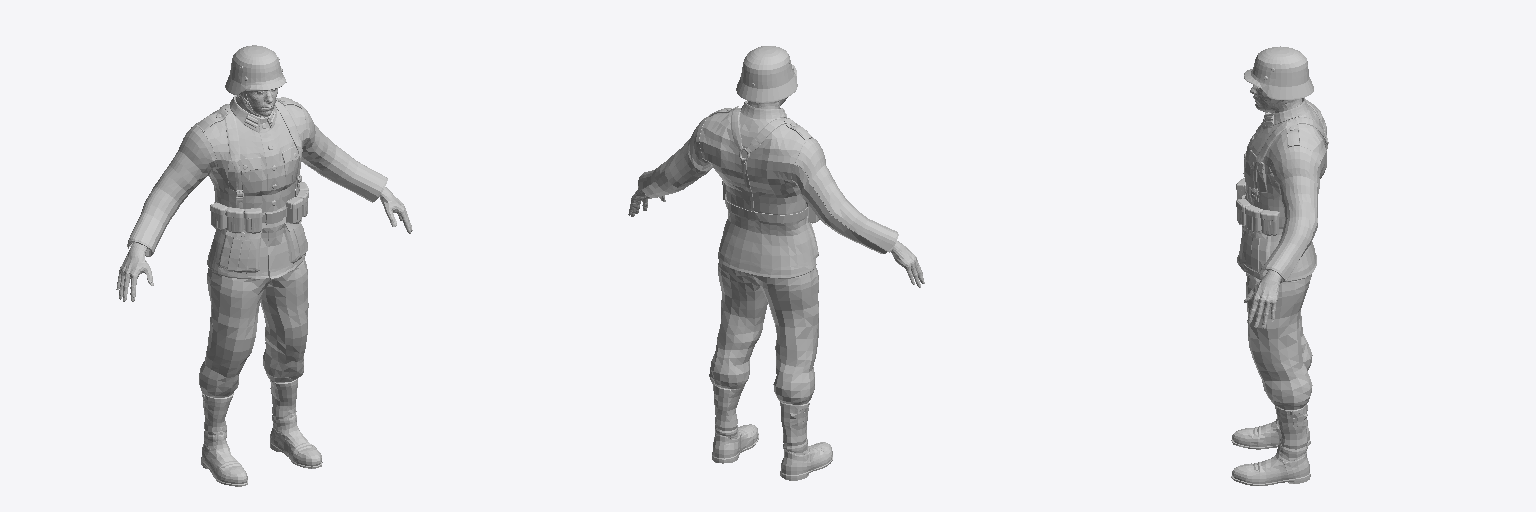
File: soldier.obj
3 views of the same model, side by side, from view 1: azimuth 30°, elevation 25°; view 2: azimuth 150°, elevation 25°; view 3: azimuth 270°, elevation 25° (orthographic).
Visible parts, largest first — view 1: Cylinder.049_meshId0_name, Cylinder.023_meshId1_name, BlendMann.003_meshId2_name; view 2: Cylinder.049_meshId0_name, Cylinder.023_meshId1_name, BlendMann.003_meshId2_name; view 3: Cylinder.049_meshId0_name, Cylinder.023_meshId1_name, BlendMann.003_meshId2_name.
Part boxes in pixels (x1,y1,x2,y2): Cylinder.049_meshId0_name: (127,95,387,486); Cylinder.023_meshId1_name: (210,45,308,233); BlendMann.003_meshId2_name: (116,88,412,301); Cylinder.049_meshId0_name: (638,101,898,480); Cylinder.023_meshId1_name: (722,46,819,223); BlendMann.003_meshId2_name: (628,99,924,287); Cylinder.049_meshId0_name: (1231,98,1326,485); Cylinder.023_meshId1_name: (1236,46,1328,235); BlendMann.003_meshId2_name: (1244,85,1301,328).
Bounding box in the file's own units: 1.47 × 2 × 0.428.